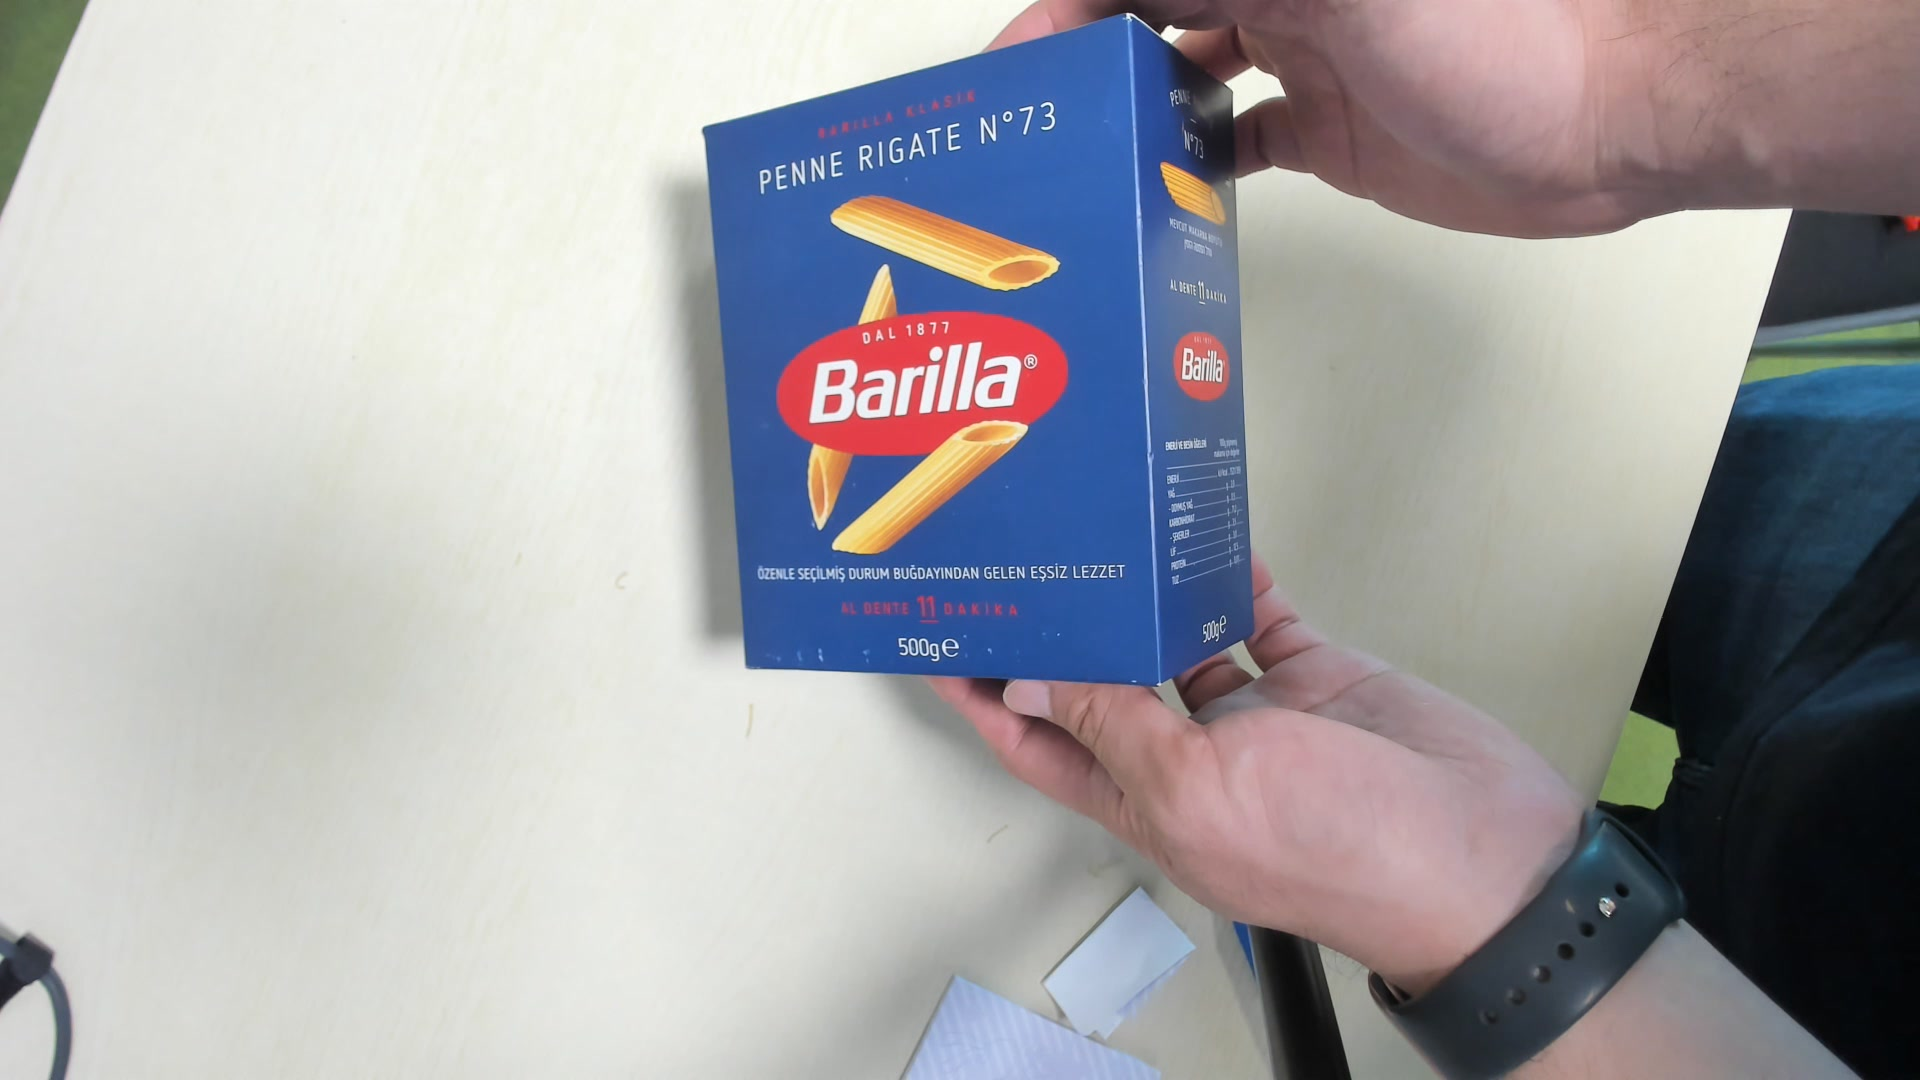Pasta_500-599g_NonHalal_NonHealthy: (702, 18, 1254, 688)
